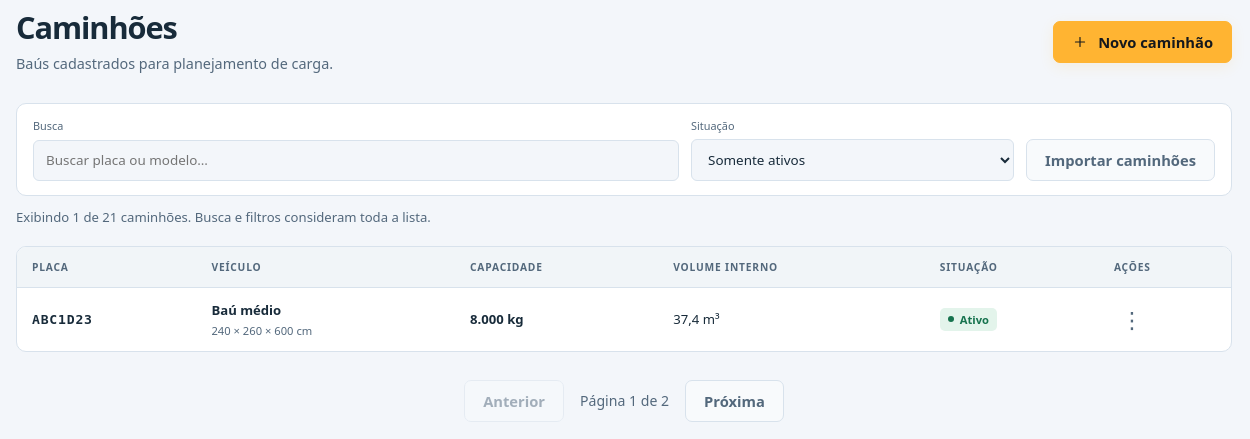
Test case: TruckListPage › navega entre páginas usando os metadados do backend
Check: the text "ABC1D23" is shown, box 32,312 -> 93,327
Check: the text "Página 1 de 2" is shown, box 580,391 -> 669,410
Click the button "Próxima" at point(734, 401), box 685,380 -> 784,422
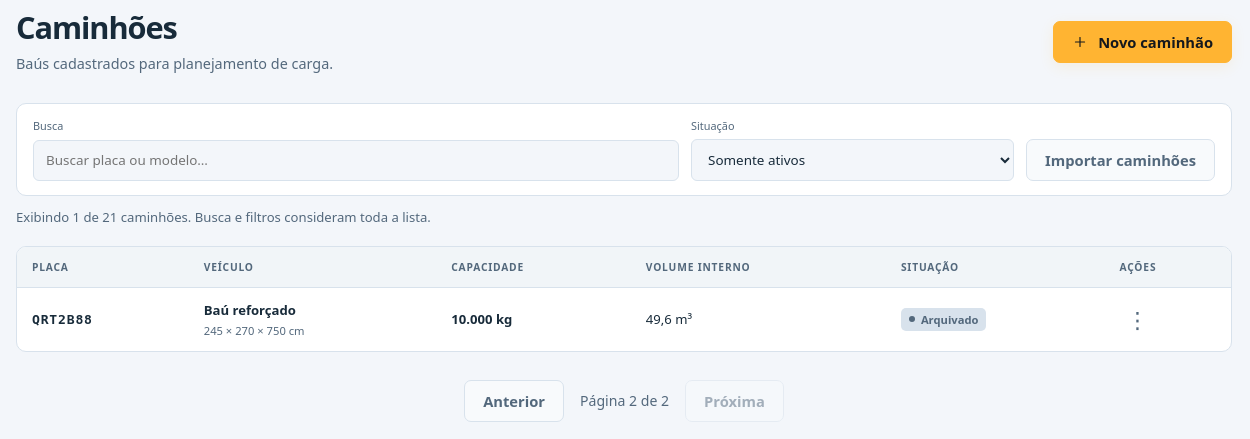
Check: the text "QRT2B88" is shown, box 32,312 -> 93,327
Check: the text "Página 2 de 2" is shown, box 580,391 -> 669,410
